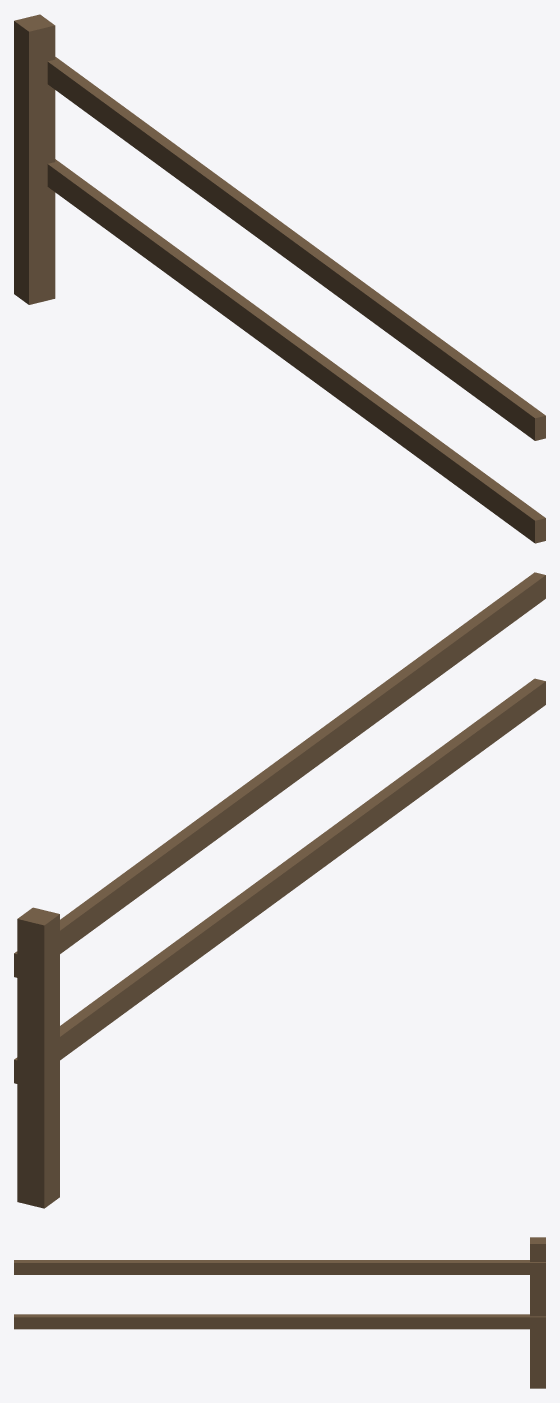
Rendered from pasture_fence_4m.glb.
3 renders of one model, top to bottom at view 1: azimuth 30°, elevation 25°; view 2: azimuth 150°, elevation 25°; view 3: azimuth 270°, elevation 25°, orthographic. The views are drawn at different scales.
Parts seen in each view (by area): view 1: pasturefence; view 2: pasturefence; view 3: pasturefence.
Boxes of the visible parts, box(x1,y1,x2,y2) form: pasturefence: box(14, 14, 545, 543); pasturefence: box(14, 572, 545, 1208); pasturefence: box(14, 1237, 545, 1388).
Bounding box in the file's own units: 0.135 × 1.2 × 4.
